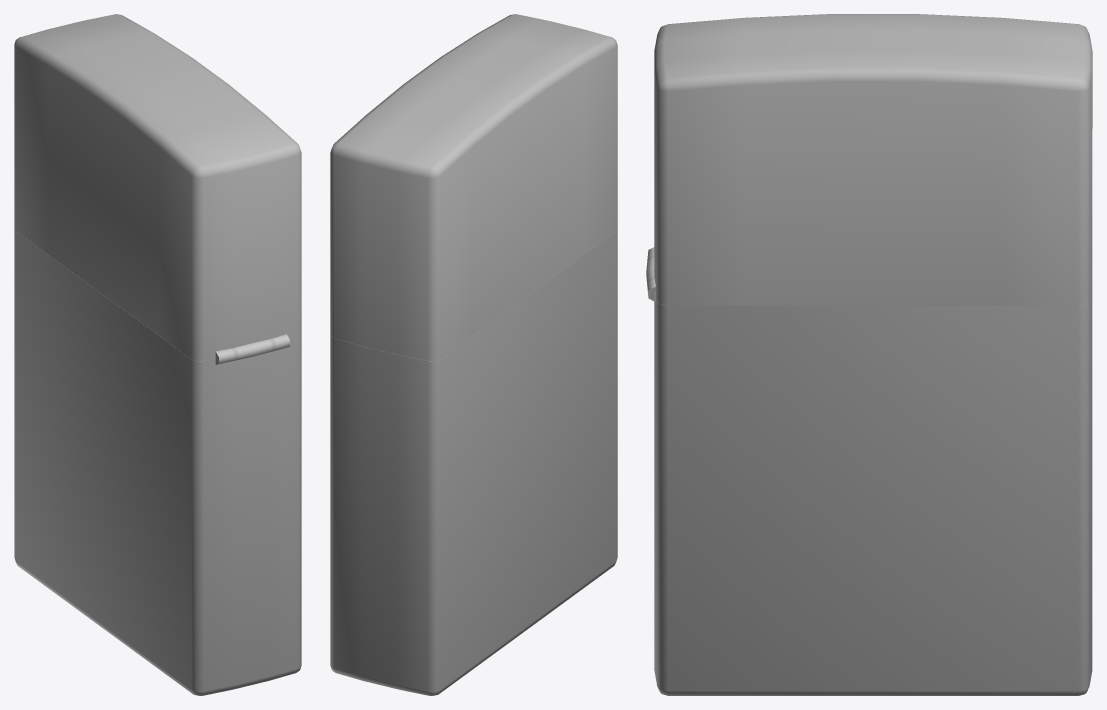
The model's file is lighter.glb.
3 views of the same model, side by side, from view 1: azimuth 30°, elevation 25°; view 2: azimuth 150°, elevation 25°; view 3: azimuth 270°, elevation 25° (orthographic). The views are drawn at different scales.
Parts seen in each view (by area): view 1: Lighter06.1, Lighter06.1.1; view 2: Lighter06.1, Lighter06.1.1; view 3: Lighter06.1, Lighter06.1.1.
Part boxes in pixels (left/top/right/bottom): Lighter06.1: left=14, top=228, right=301, bottom=695; Lighter06.1.1: left=14, top=14, right=301, bottom=364; Lighter06.1: left=330, top=228, right=617, bottom=695; Lighter06.1.1: left=330, top=14, right=617, bottom=361; Lighter06.1: left=654, top=287, right=1092, bottom=695; Lighter06.1.1: left=646, top=14, right=1092, bottom=305.
Size of the model in its own units: 0.0122 by 0.0574 by 0.037.
Materials: 2 (2 with a texture image).
